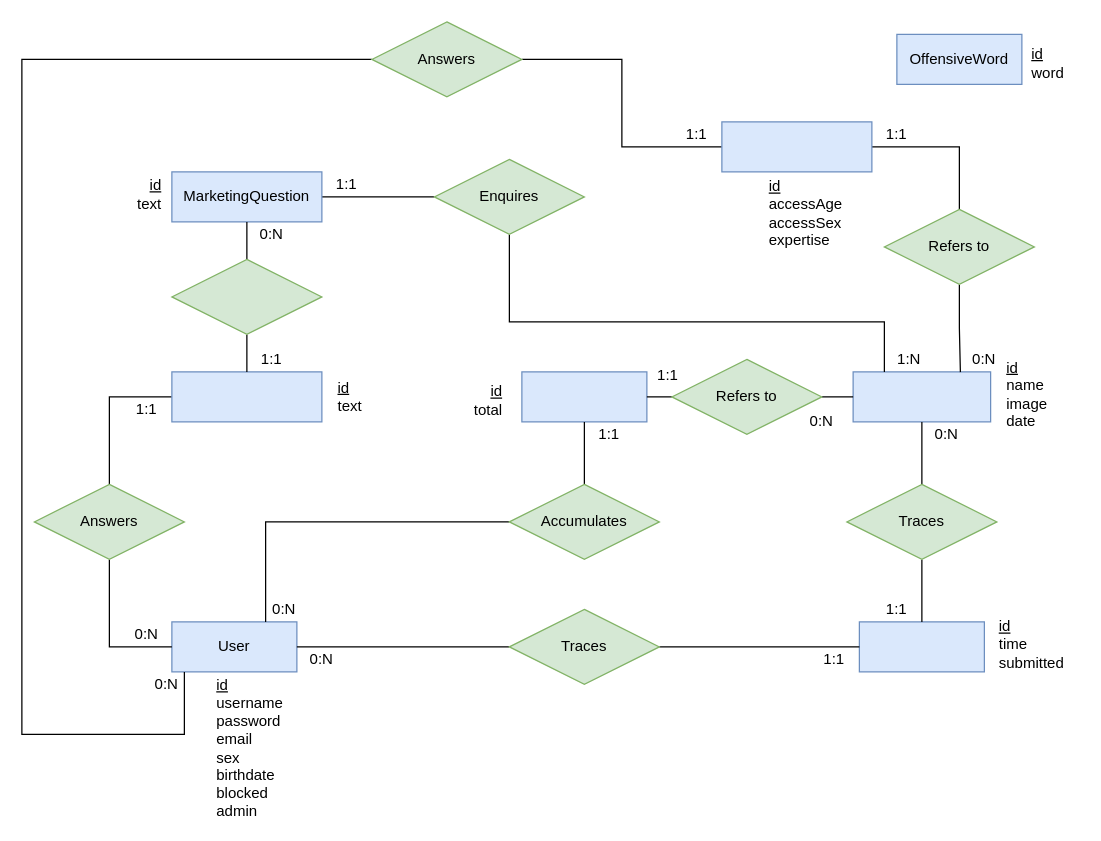
The diagram is 1101 pixels wide and 841 high, and some of its shapes have lost their labels. The box of each missing label's shape, as (x1, y1, x2, y2) in pixels:
Log: (858, 621, 984, 672)
MarketingAnswer: (171, 371, 322, 422)
Points: (521, 371, 647, 422)
Product: (852, 371, 991, 422)
Replies: (171, 258, 322, 334)
StatisticalAnswer: (721, 121, 872, 172)
